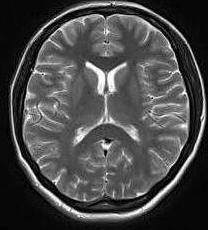Normal_Brain: (1, 1, 208, 230)
